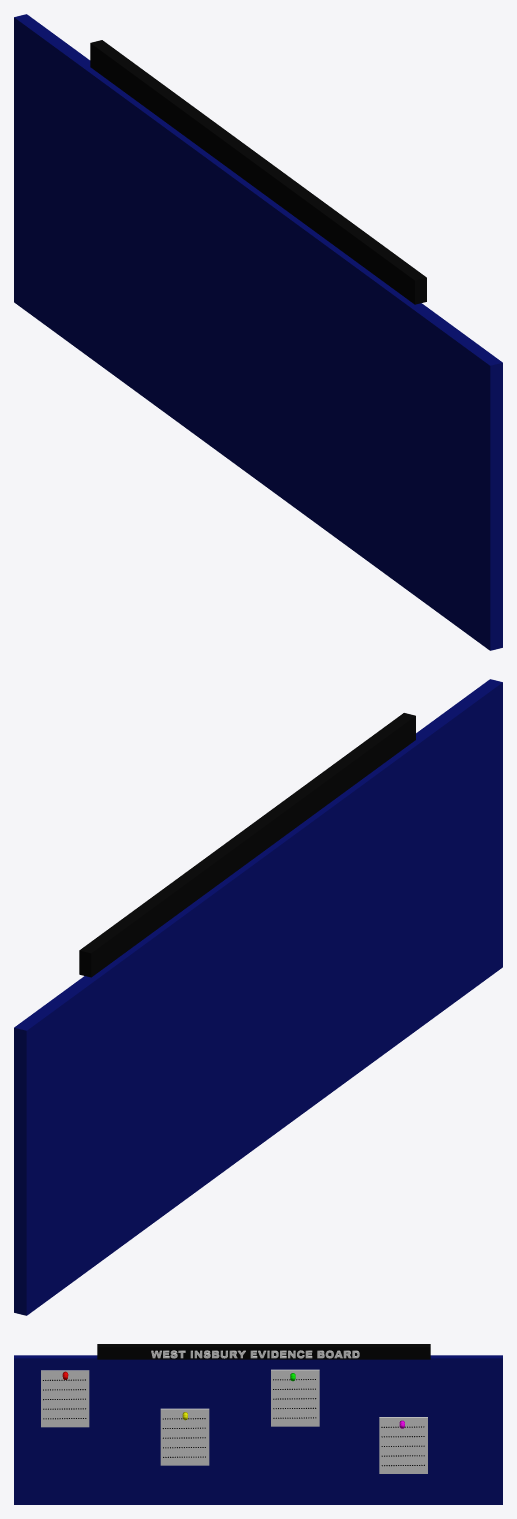
Rendered from WestInsburyEvidenceBoard.fbx.
3 views of the same model, one above another, from view 1: azimuth 30°, elevation 25°; view 2: azimuth 150°, elevation 25°; view 3: azimuth 270°, elevation 25° (orthographic). The views are drawn at different scales.
Visible parts, largest first — view 1: EvidenceBoard, Cube.043; view 2: EvidenceBoard, Cube.043; view 3: EvidenceBoard, Cube.043, Cube.001, Cube.002, Cube, Cube.003, Text.003, Text, Text.004, Text.002, Text.001.
Part boxes in pixels (x1,y1,x2,y2): EvidenceBoard: (14,14,502,650); Cube.043: (90,40,426,304); EvidenceBoard: (14,679,502,1315); Cube.043: (79,713,415,977); EvidenceBoard: (14,1355,502,1504); Cube.043: (97,1344,430,1359); Cube.001: (160,1408,209,1465); Cube.002: (271,1369,319,1426); Cube: (41,1370,89,1427); Cube.003: (379,1417,427,1473); Text.003: (151,1350,359,1358); Text: (43,1379,86,1419); Text.004: (381,1426,424,1466); Text.002: (273,1379,316,1418); Text.001: (162,1418,205,1457).
Size of the model in its own units: 21.78 by 193 by 538.
